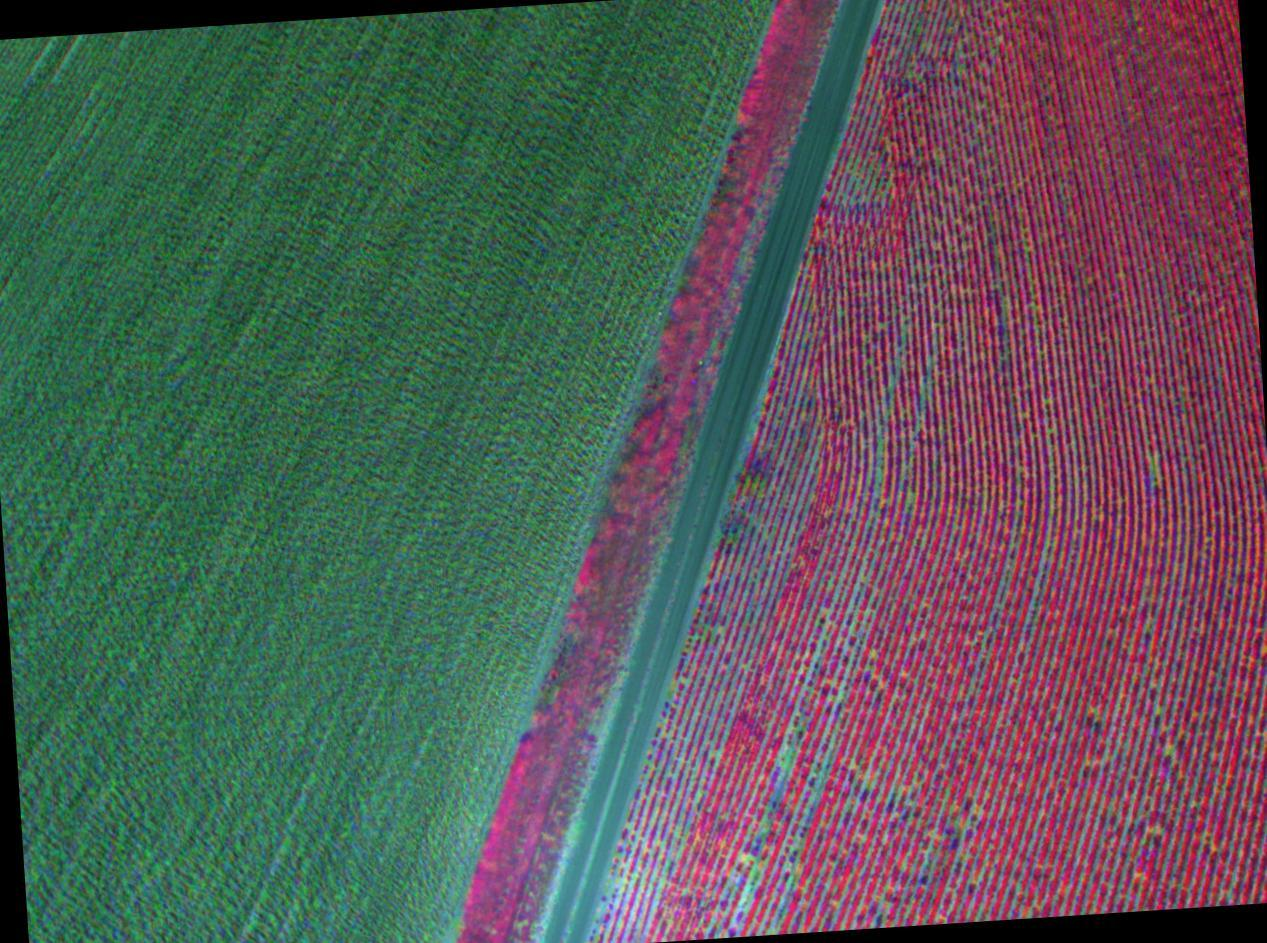dc: (1151, 459, 1155, 464), (859, 577, 863, 582), (781, 752, 785, 756), (717, 753, 721, 757), (784, 765, 788, 769), (696, 793, 700, 797), (629, 883, 633, 887), (653, 901, 658, 904), (667, 734, 670, 738), (955, 823, 958, 827), (871, 183, 874, 186), (879, 441, 882, 444), (760, 487, 763, 490), (747, 855, 750, 858), (824, 627, 826, 630)
